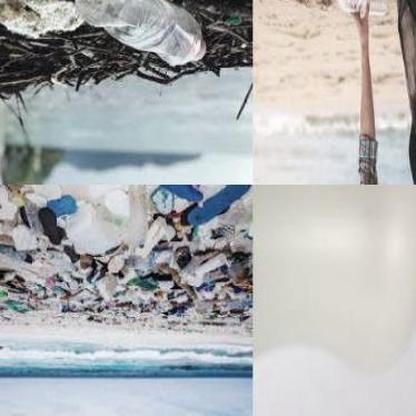plastic bottle: (77, 1, 207, 65), (337, 1, 389, 17)
